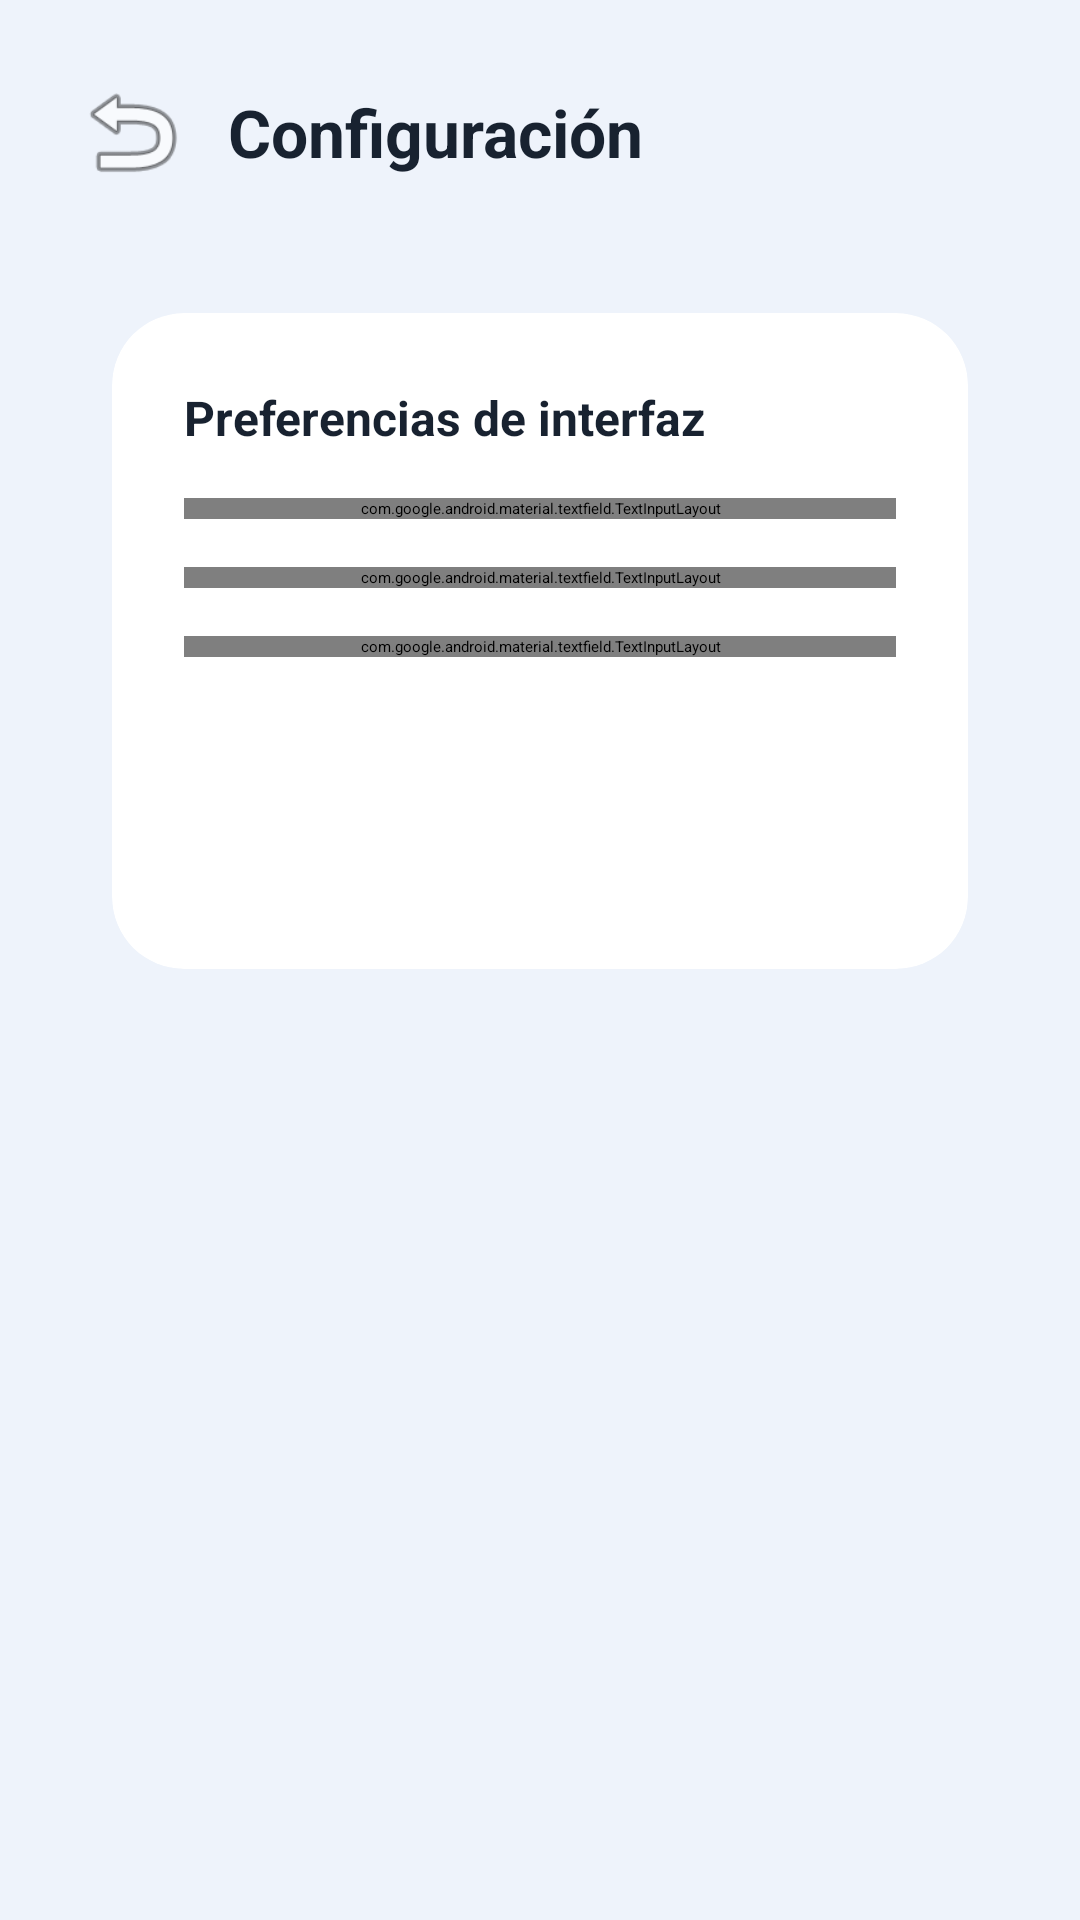

Point at icon controls on the screen. Image size 1080px x 1920px, points as [x,y].
revert: [133,133]
